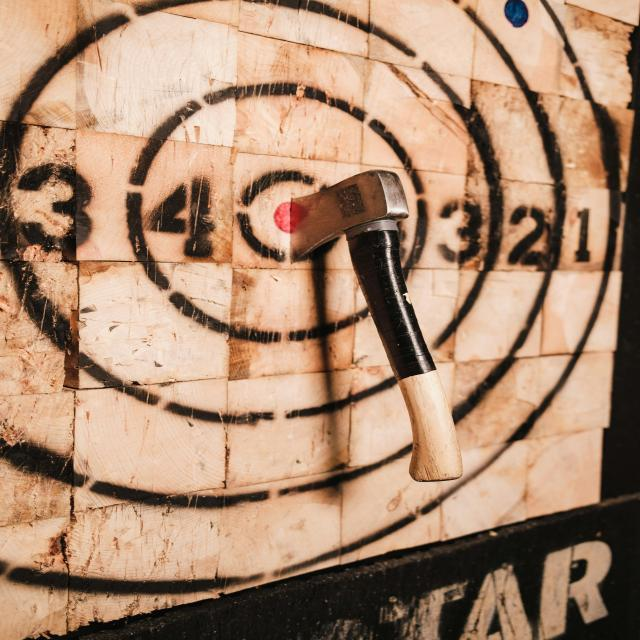Axe: (298, 170, 463, 483)
